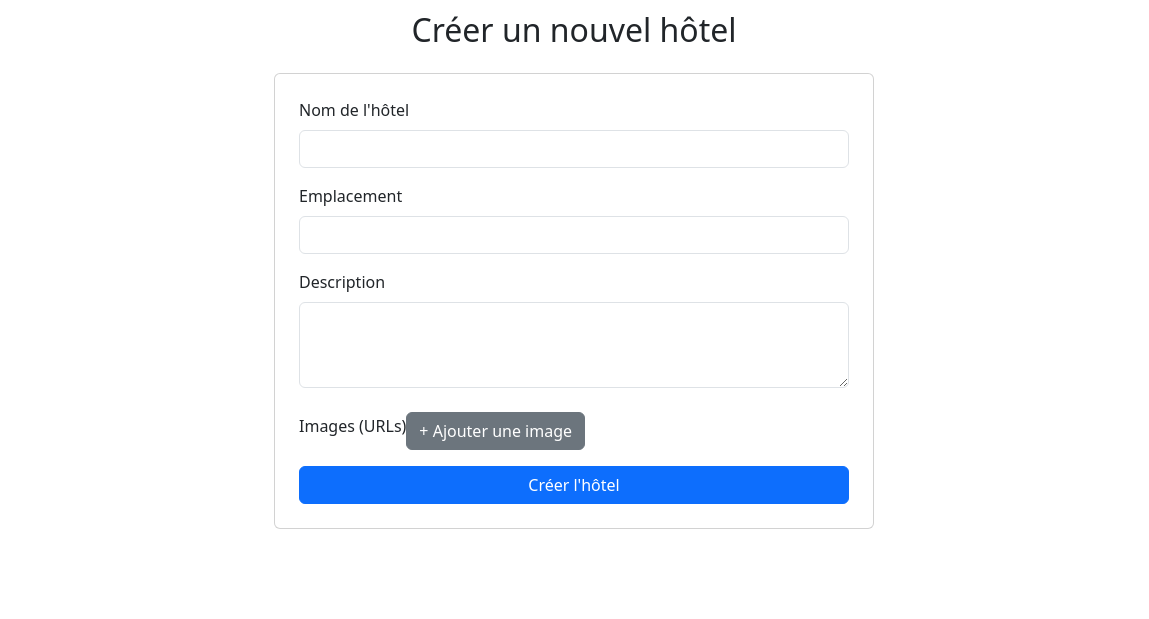
Test: CreateHotel.vue › devrait afficher un message de succès et rediriger après création réussie
In the field below "Nom de l'hôtel": coordinates (574, 149) 299,130 -> 849,168, type "Hôtel de Test"
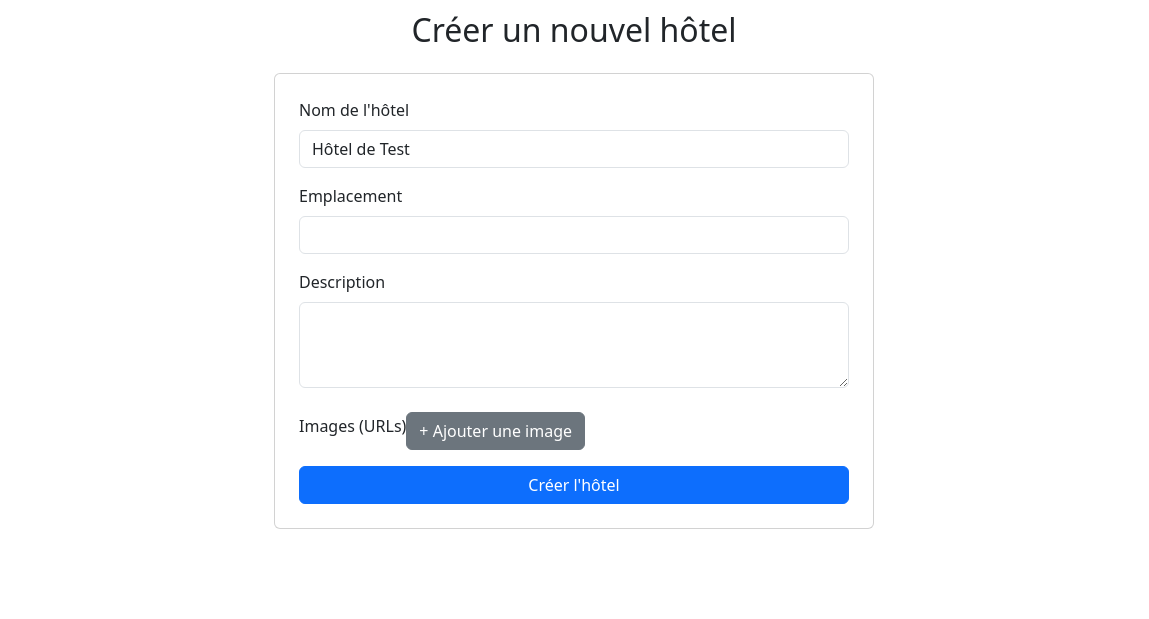
In the field below "Emplacement": coordinates (574, 235) 299,216 -> 849,254, type "Paris, France"
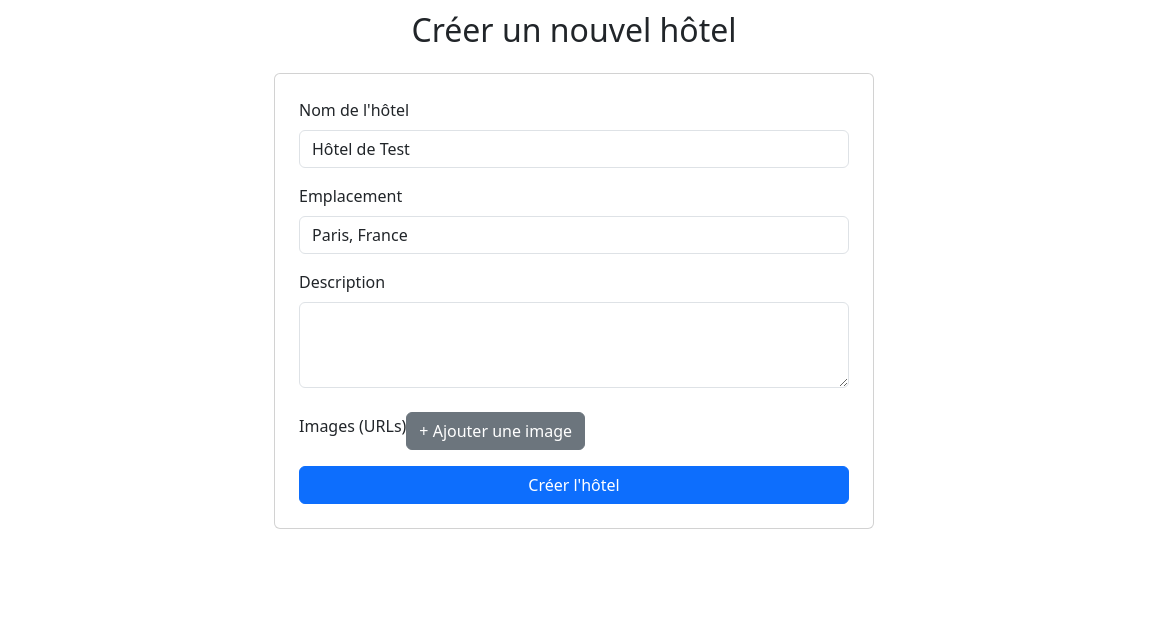
In the text box: coordinates (574, 345) 299,302 -> 849,388, type "Une description de test"
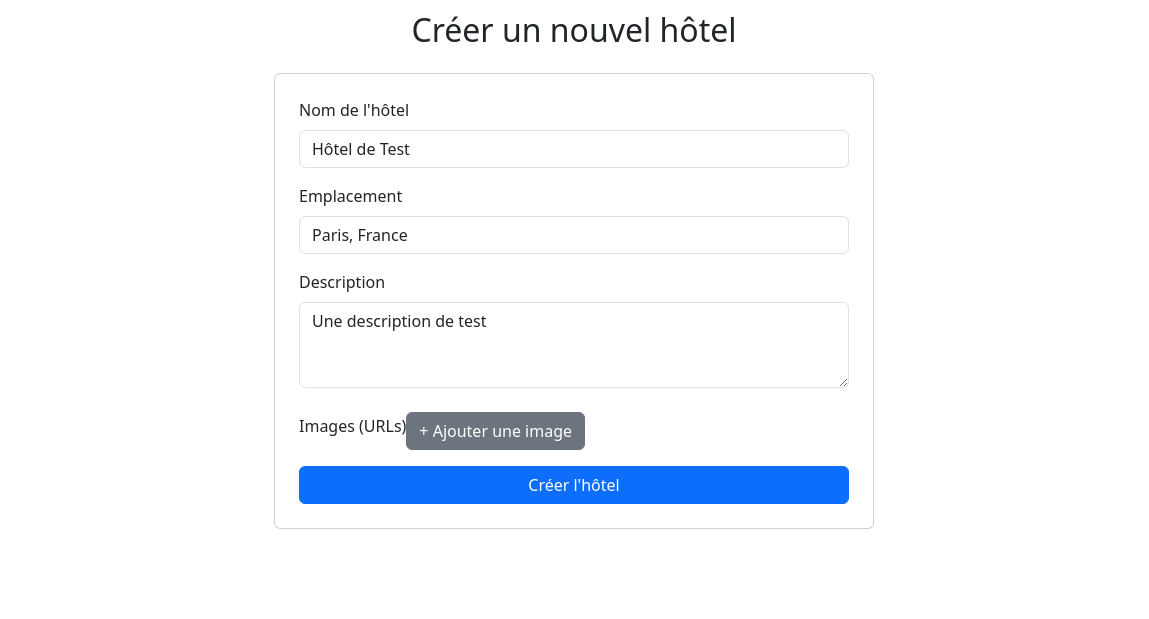
Submit the form, box 274,73 -> 874,529
Wait 2000 ms
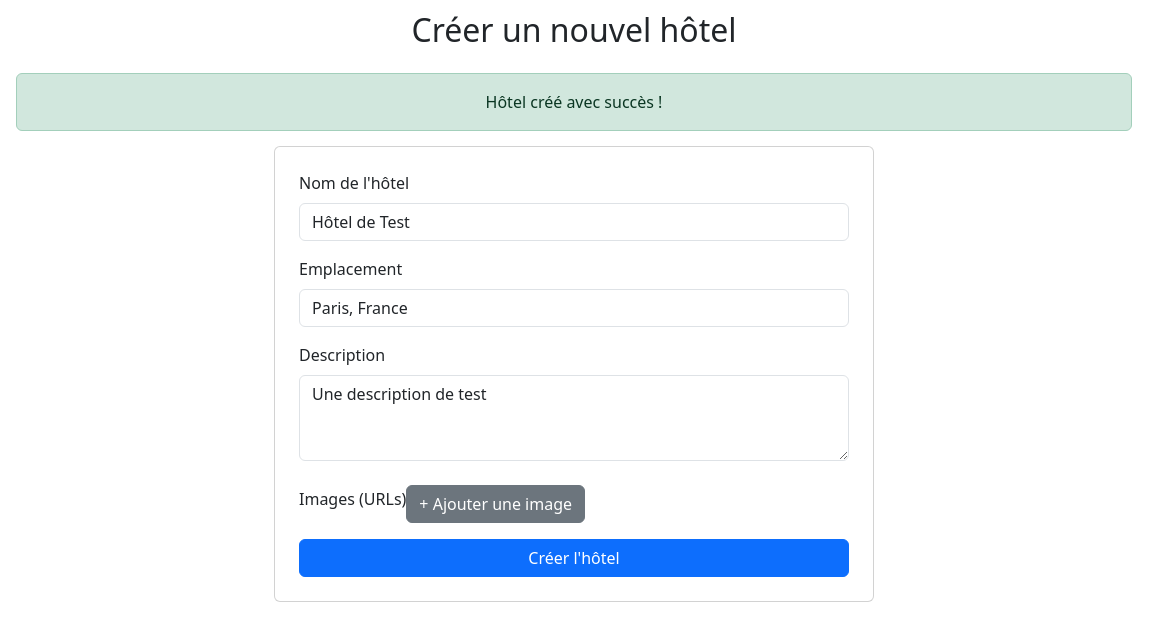
expect the text "Hôtel créé avec succès !" is shown: met, box 16,73 -> 1132,131
